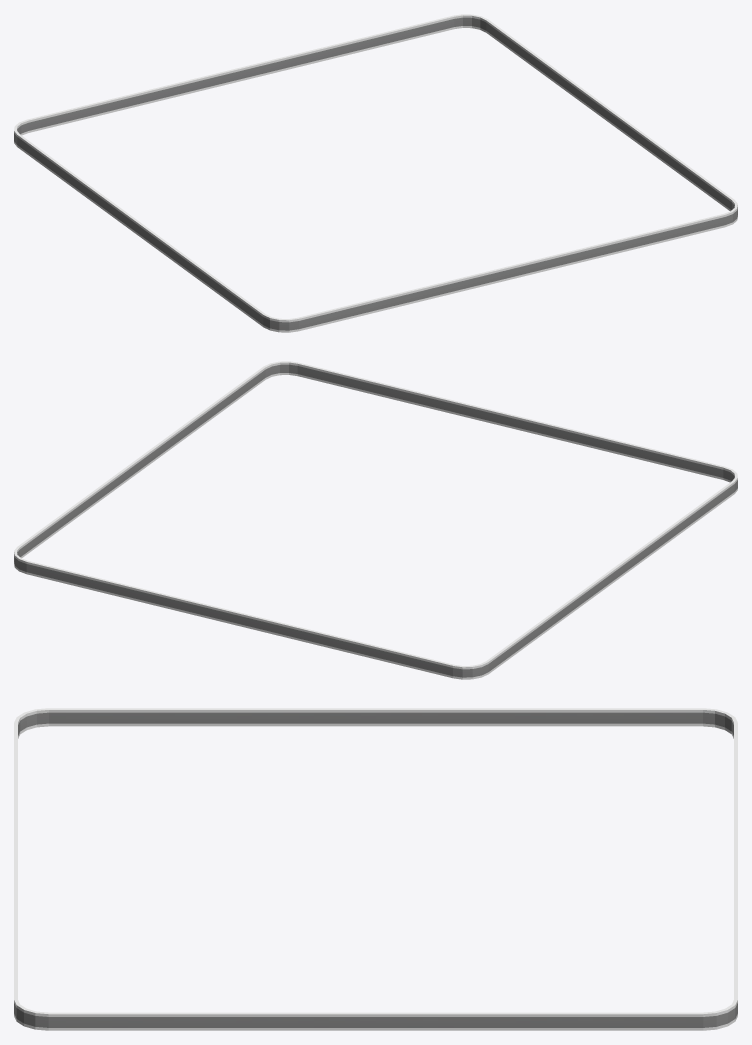
The model's file is ControlpointOutline.fbx.
The picture shows the model from 3 angles, top to bottom: view 1: azimuth 30°, elevation 25°; view 2: azimuth 150°, elevation 25°; view 3: azimuth 270°, elevation 25°; orthographic projection. The views are drawn at different scales.
Parts seen in each view (by area): view 1: CapturePoint; view 2: CapturePoint; view 3: CapturePoint.
Part boxes in pixels (left/top/right/bottom): CapturePoint: left=14, top=14, right=737, bottom=332; CapturePoint: left=14, top=361, right=737, bottom=679; CapturePoint: left=14, top=708, right=737, bottom=1030.
Size of the model in its own units: 1311 by 33.16 by 1311.
Materials: 1 (1 with a texture image).
